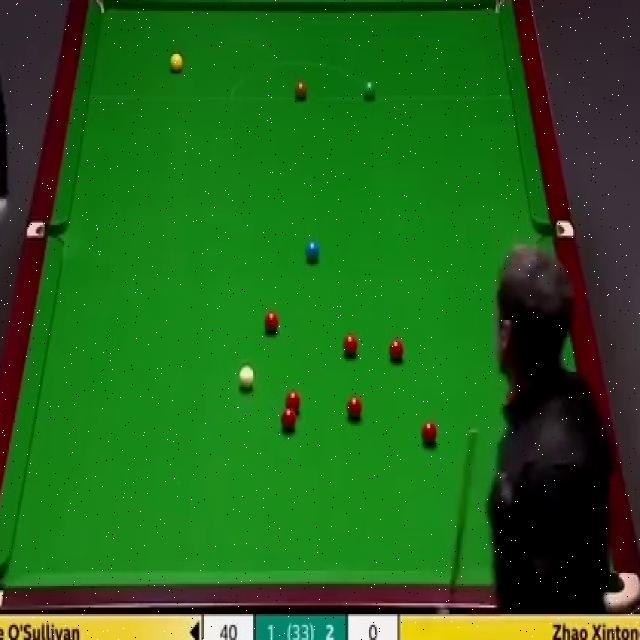blue-ball: (304, 239, 320, 262)
brown-ball: (294, 80, 308, 102)
green-ball: (362, 81, 379, 104)
red-ball: (346, 394, 364, 420), (339, 332, 358, 356), (263, 312, 280, 335), (421, 424, 436, 448), (388, 339, 403, 363), (281, 407, 296, 431), (284, 391, 302, 408)
white-ball: (238, 363, 255, 389)
yellow-ball: (170, 54, 184, 76)
